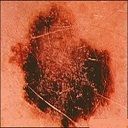Melanoma: (21, 11, 109, 122)
